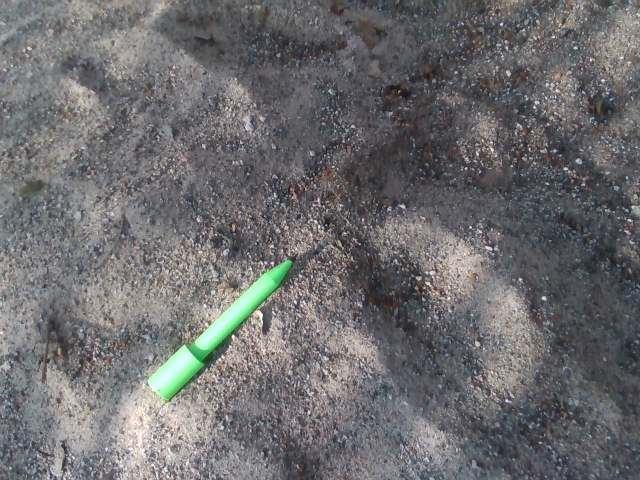Probe: (141, 248, 305, 406)
